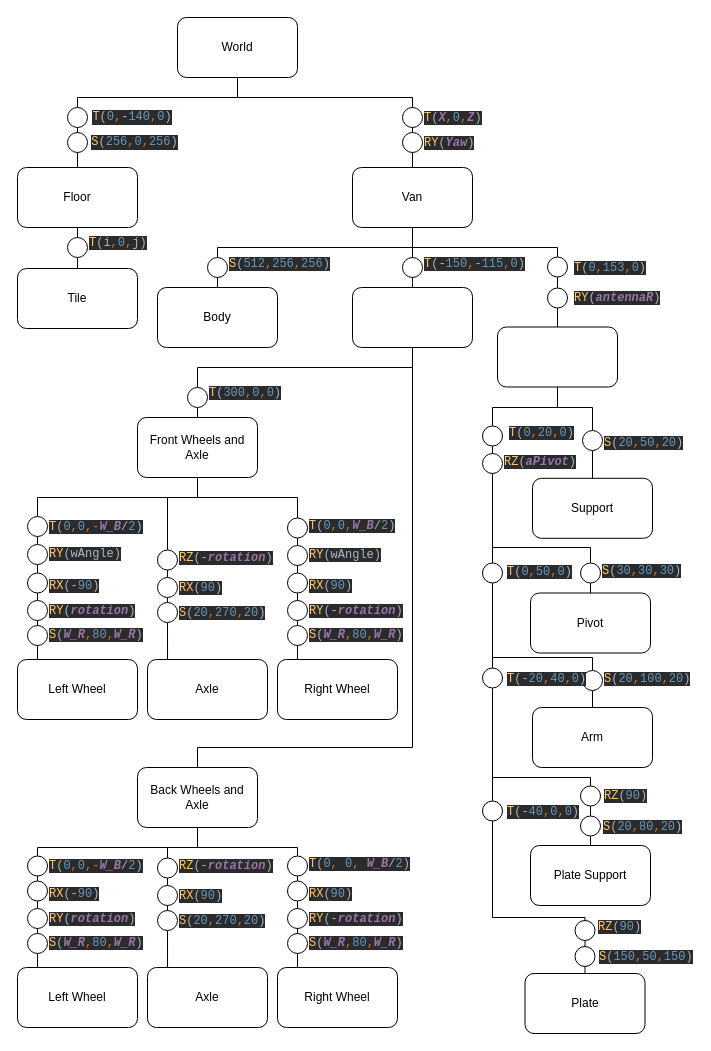
Some shapes in this 711 by 1051 pixel diagram are drawn without their labels. Each missing label, with the box of its shape:
Antenna: (496, 326, 618, 387)
Chassis: (352, 286, 472, 348)
